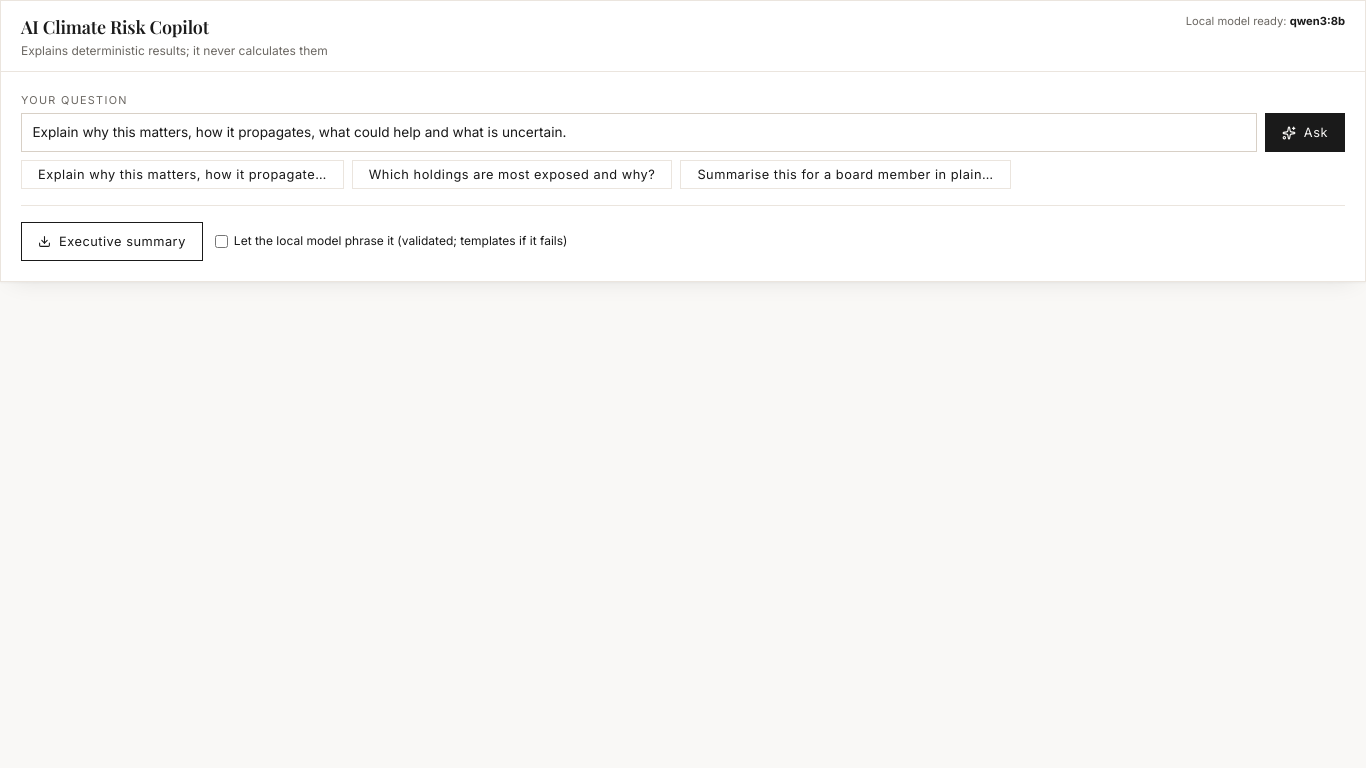
Test: CopilotPanel › says plainly when it fell back to templates and why
Click the button "Ask". click: coordinates (1305, 132)
box: [1265, 113, 1345, 152]
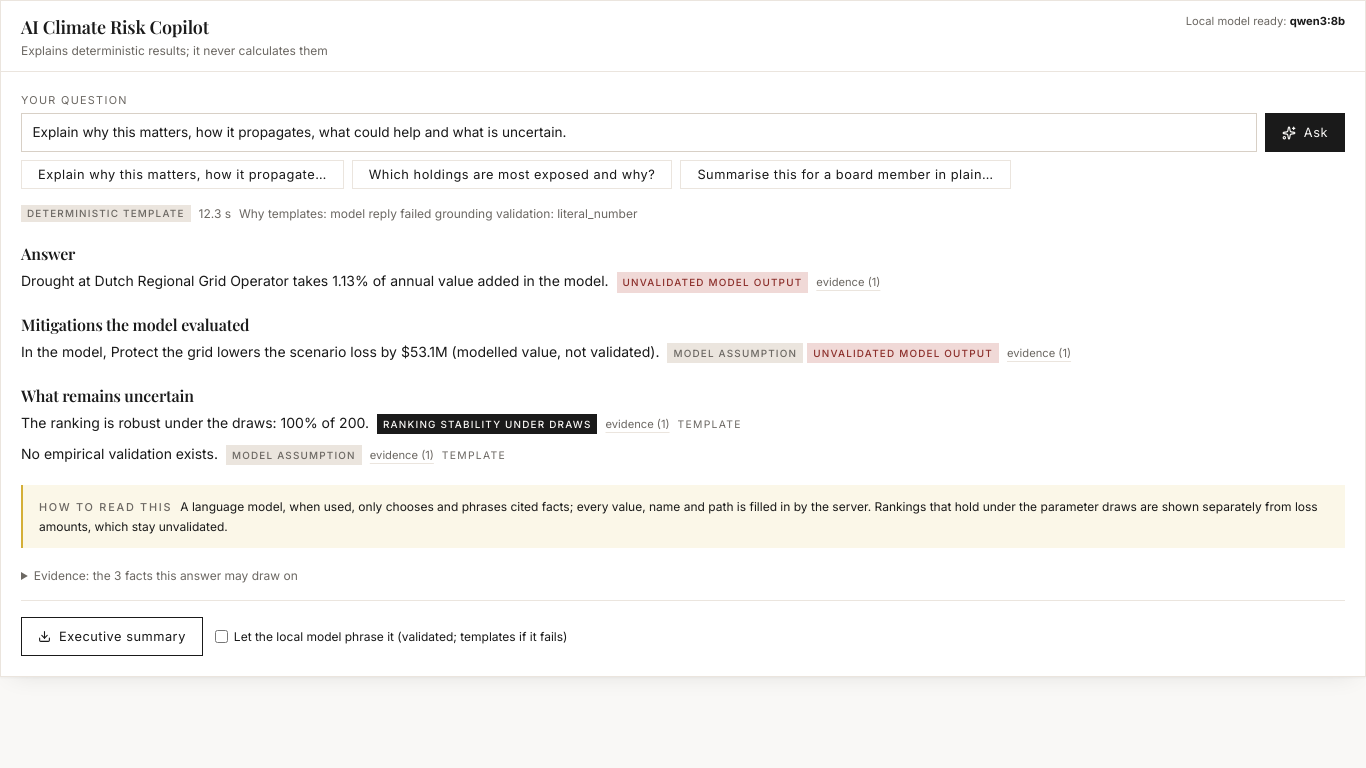
Expected: the text "Deterministic template" is shown, [21, 205, 191, 222]
Expected: the text with test id "copilot-fallback" shows "literal_number", [330, 206, 637, 221]
